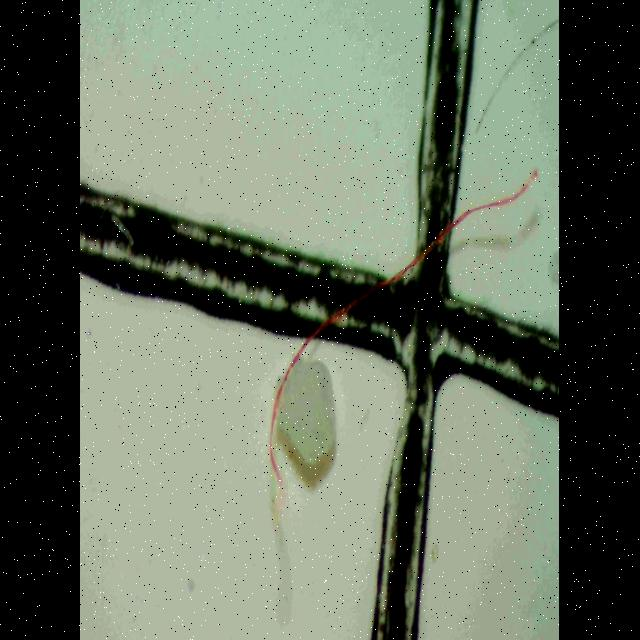Fibre: (268, 157, 544, 498)
